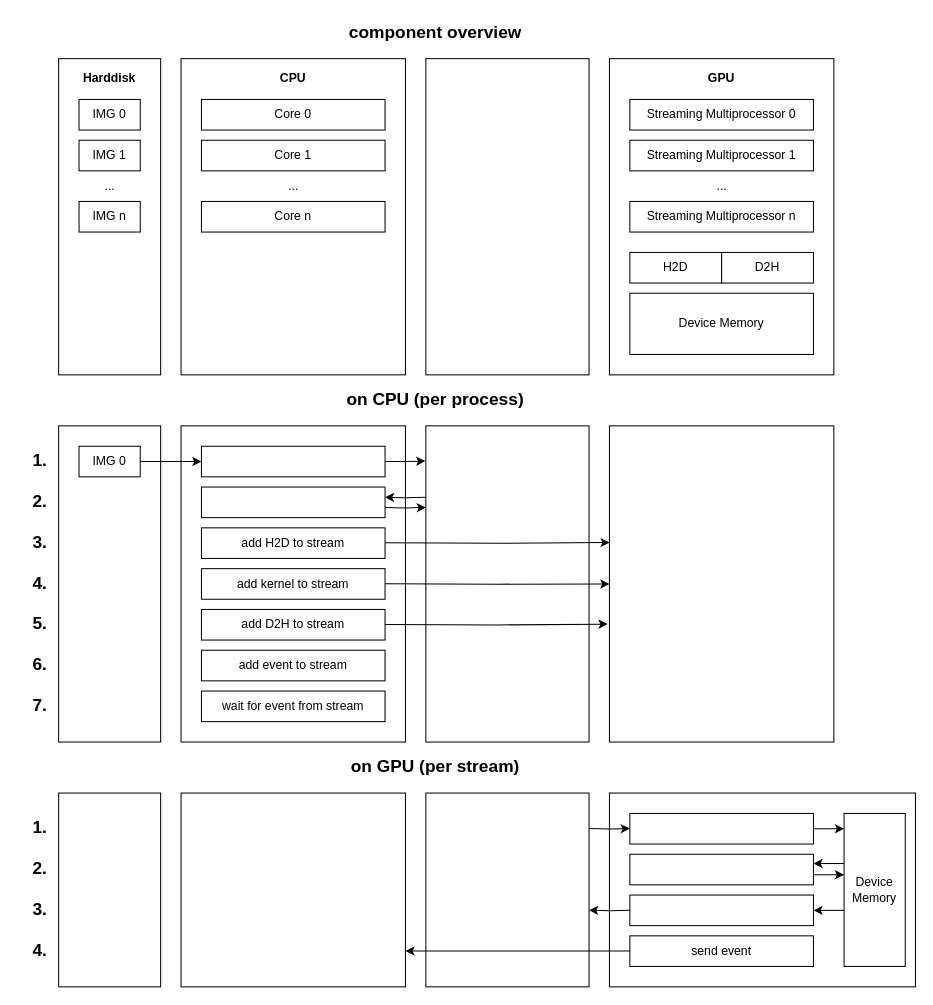
Image size: 933x1005. Some labels were removed from this diagram. The shapes that lost their labels are listed below. From the top down, each one's centre as x and y in pixels, then its label:
At point (507, 216): "RAM".
At point (292, 461): "read and copy to RAM".
At point (292, 502): "compute SVD and store in RAM".
At point (721, 828): "H2D: copy to global memory".
At point (721, 869): "SM: run kernel".
At point (721, 910): "D2H: copy to RAM".
